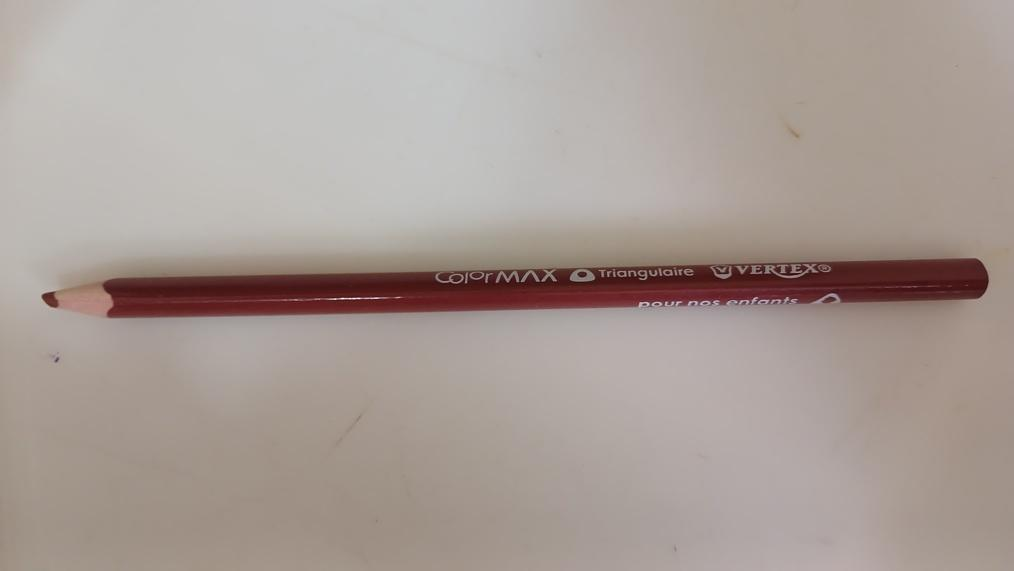Pencil: (36, 262, 999, 319)
